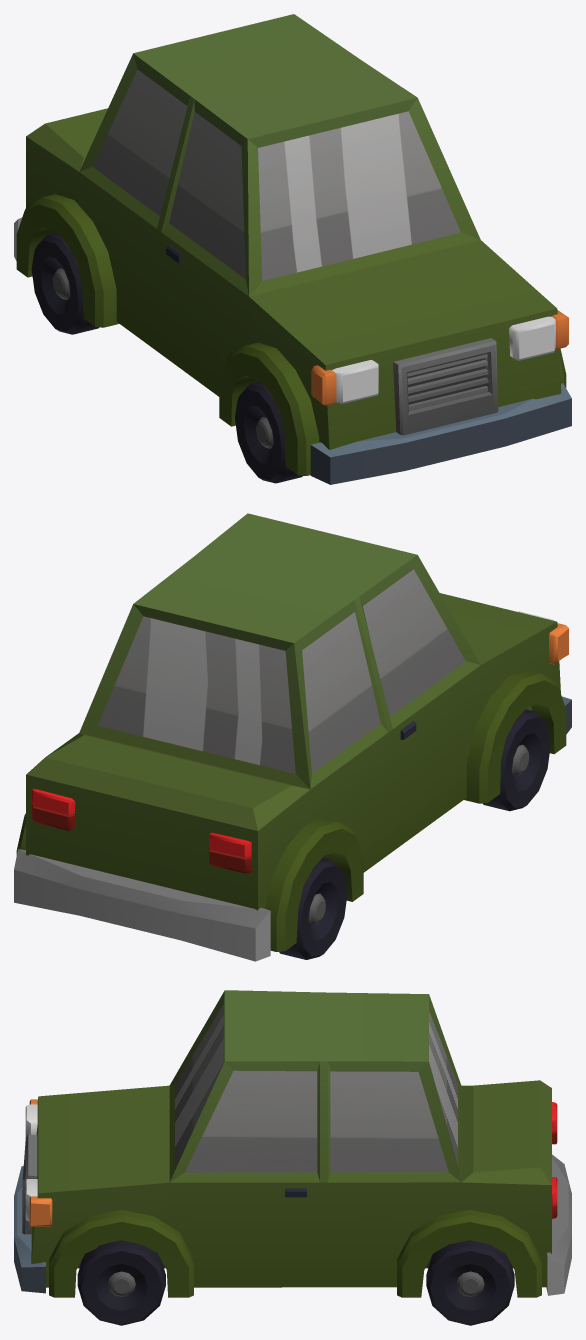
Rendered from Car_2_16.glb.
3 views of the same model, one above another, from view 1: azimuth 30°, elevation 25°; view 2: azimuth 150°, elevation 25°; view 3: azimuth 270°, elevation 25° (orthographic). The views are drawn at different scales.
Parts seen in each view (by area): view 1: Car_2_16, W_BR, W_FR; view 2: Car_2_16, W_FR, W_BR; view 3: Car_2_16, W_BL, W_FL.
Boxes of the visible parts, x1=… form: Car_2_16: x1=14, y1=14, x2=571, y2=484; W_BR: x1=31, y1=232, x2=99, y2=334; W_FR: x1=235, y1=381, x2=302, y2=483; Car_2_16: x1=14, y1=513, x2=571, y2=961; W_FR: x1=482, y1=709, x2=550, y2=811; W_BR: x1=279, y1=858, x2=347, y2=959; Car_2_16: x1=14, y1=990, x2=571, y2=1297; W_BL: x1=426, y1=1240, x2=514, y2=1325; W_FL: x1=77, y1=1240, x2=165, y2=1325.
Size of the model in its own units: 1.09 by 1.11 by 2.28.
5 materials, 5 textured.
